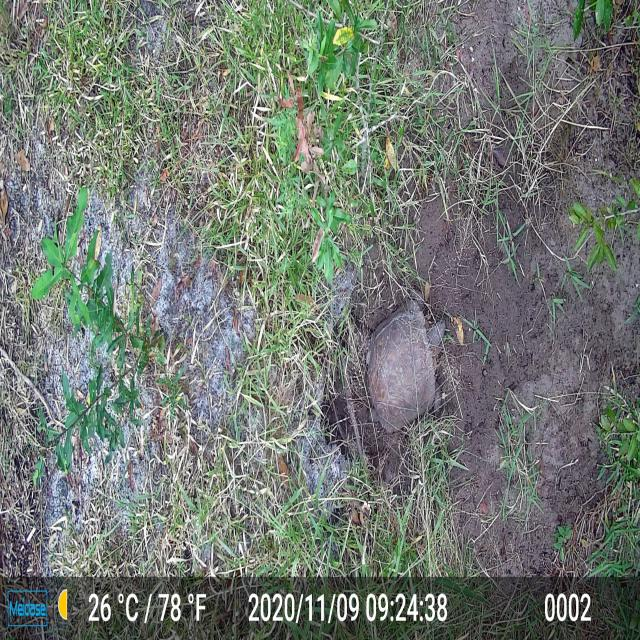tortoise: (362, 298, 451, 438)
